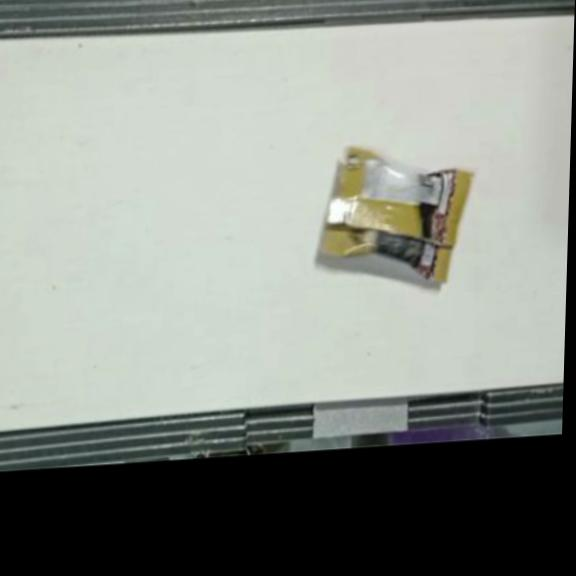Plastik: (319, 139, 475, 292)
